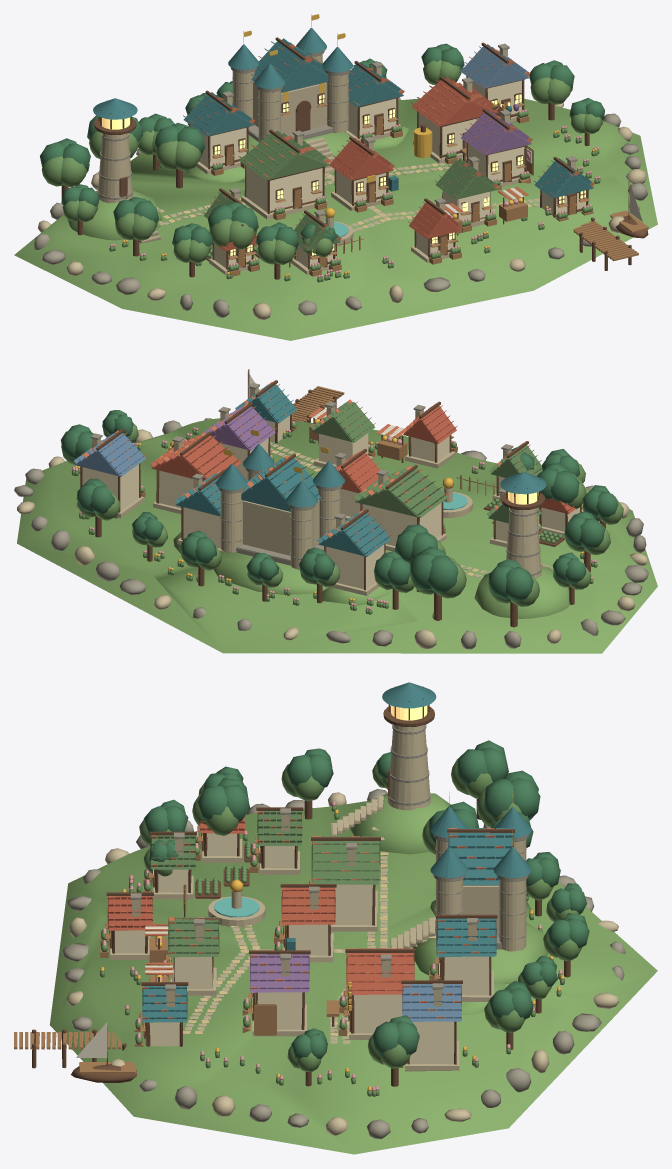
Rendered from island-low.glb.
3 renders of one model, top to bottom at view 1: azimuth 30°, elevation 25°; view 2: azimuth 150°, elevation 25°; view 3: azimuth 270°, elevation 25°, orthographic. The views are drawn at different scales.
Visible parts, largest first — view 1: landscape__cliff, landscape__leaf_light, landscape__leaf, keep__stone, keep__teal, landscape__stone_dark, landscape__grass, landscape__stone, guild__green, workshop__roof, guild__cream, lighthouse__stone (+33 smaller); view 2: landscape__cliff, landscape__leaf, landscape__leaf_light, keep__stone, landscape__grass, landscape__stone_dark, keep__teal, guild__green, landscape__stone, workshop__roof, library__teal, alchemy__blue (+26 smaller); view 3: landscape__cliff, landscape__leaf, landscape__leaf_light, landscape__grass, landscape__stone_dark, keep__stone, keep__teal, landscape__stone, lighthouse__stone, guild__green, workshop__roof, atelier__purple (+30 smaller).
Part boxes in pixels (x1,y1,x2,y2): landscape__cliff: (14, 98, 657, 340); landscape__leaf_light: (41, 60, 603, 282); landscape__leaf: (40, 43, 604, 250); keep__stone: (232, 54, 348, 173); keep__teal: (228, 28, 352, 92); landscape__stone_dark: (34, 97, 647, 317); landscape__grass: (67, 125, 408, 240); landscape__stone: (37, 94, 646, 319); guild__green: (238, 130, 330, 180); workshop__roof: (410, 77, 498, 126); guild__cream: (246, 166, 322, 212); lighthouse__stone: (97, 133, 160, 243); landscape__cliff: (17, 418, 657, 653); landscape__leaf: (60, 410, 618, 602); landscape__leaf_light: (61, 422, 623, 618); keep__stone: (220, 471, 340, 569); landscape__grass: (173, 532, 570, 618); landscape__stone_dark: (14, 418, 648, 649); keep__teal: (215, 444, 345, 511); guild__green: (353, 468, 448, 517); landscape__stone: (17, 429, 647, 649); workshop__roof: (150, 435, 240, 480); library__teal: (317, 513, 390, 556); alchemy__blue: (74, 433, 145, 476); landscape__cliff: (49, 800, 657, 1154); landscape__leaf: (144, 740, 589, 1059); landscape__leaf_light: (100, 759, 582, 1096); landscape__grass: (350, 793, 548, 1014); landscape__stone_dark: (62, 789, 625, 1139); keep__stone: (390, 839, 526, 951); keep__teal: (430, 807, 531, 885); landscape__stone: (66, 792, 618, 1135); lighthouse__stone: (331, 724, 430, 836); guild__green: (311, 836, 380, 884); workshop__roof: (346, 948, 414, 995); atelier__purple: (250, 954, 309, 992).
Size of the model in its own units: 28.85 by 7.03 by 22.4.
